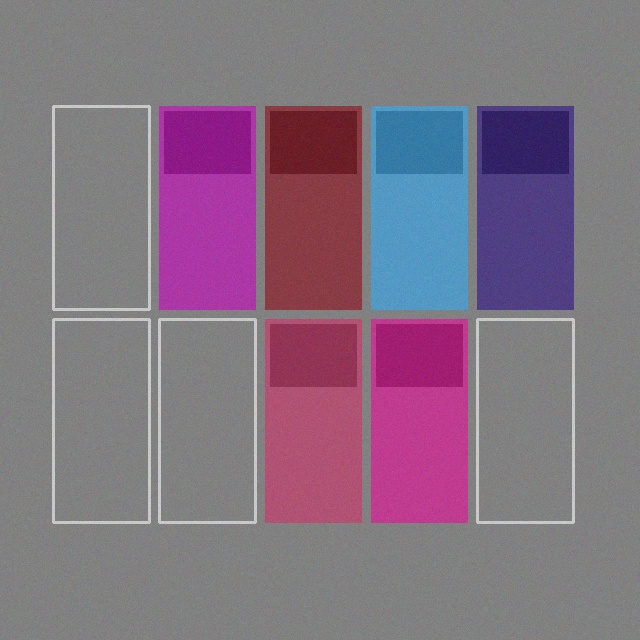space-empty: (53, 106, 149, 309), (53, 319, 149, 522), (159, 319, 255, 522), (477, 319, 573, 522)
space-occupied: (159, 106, 255, 309), (265, 106, 361, 309), (371, 106, 467, 309), (477, 106, 573, 309), (265, 319, 361, 522), (371, 319, 467, 522)
